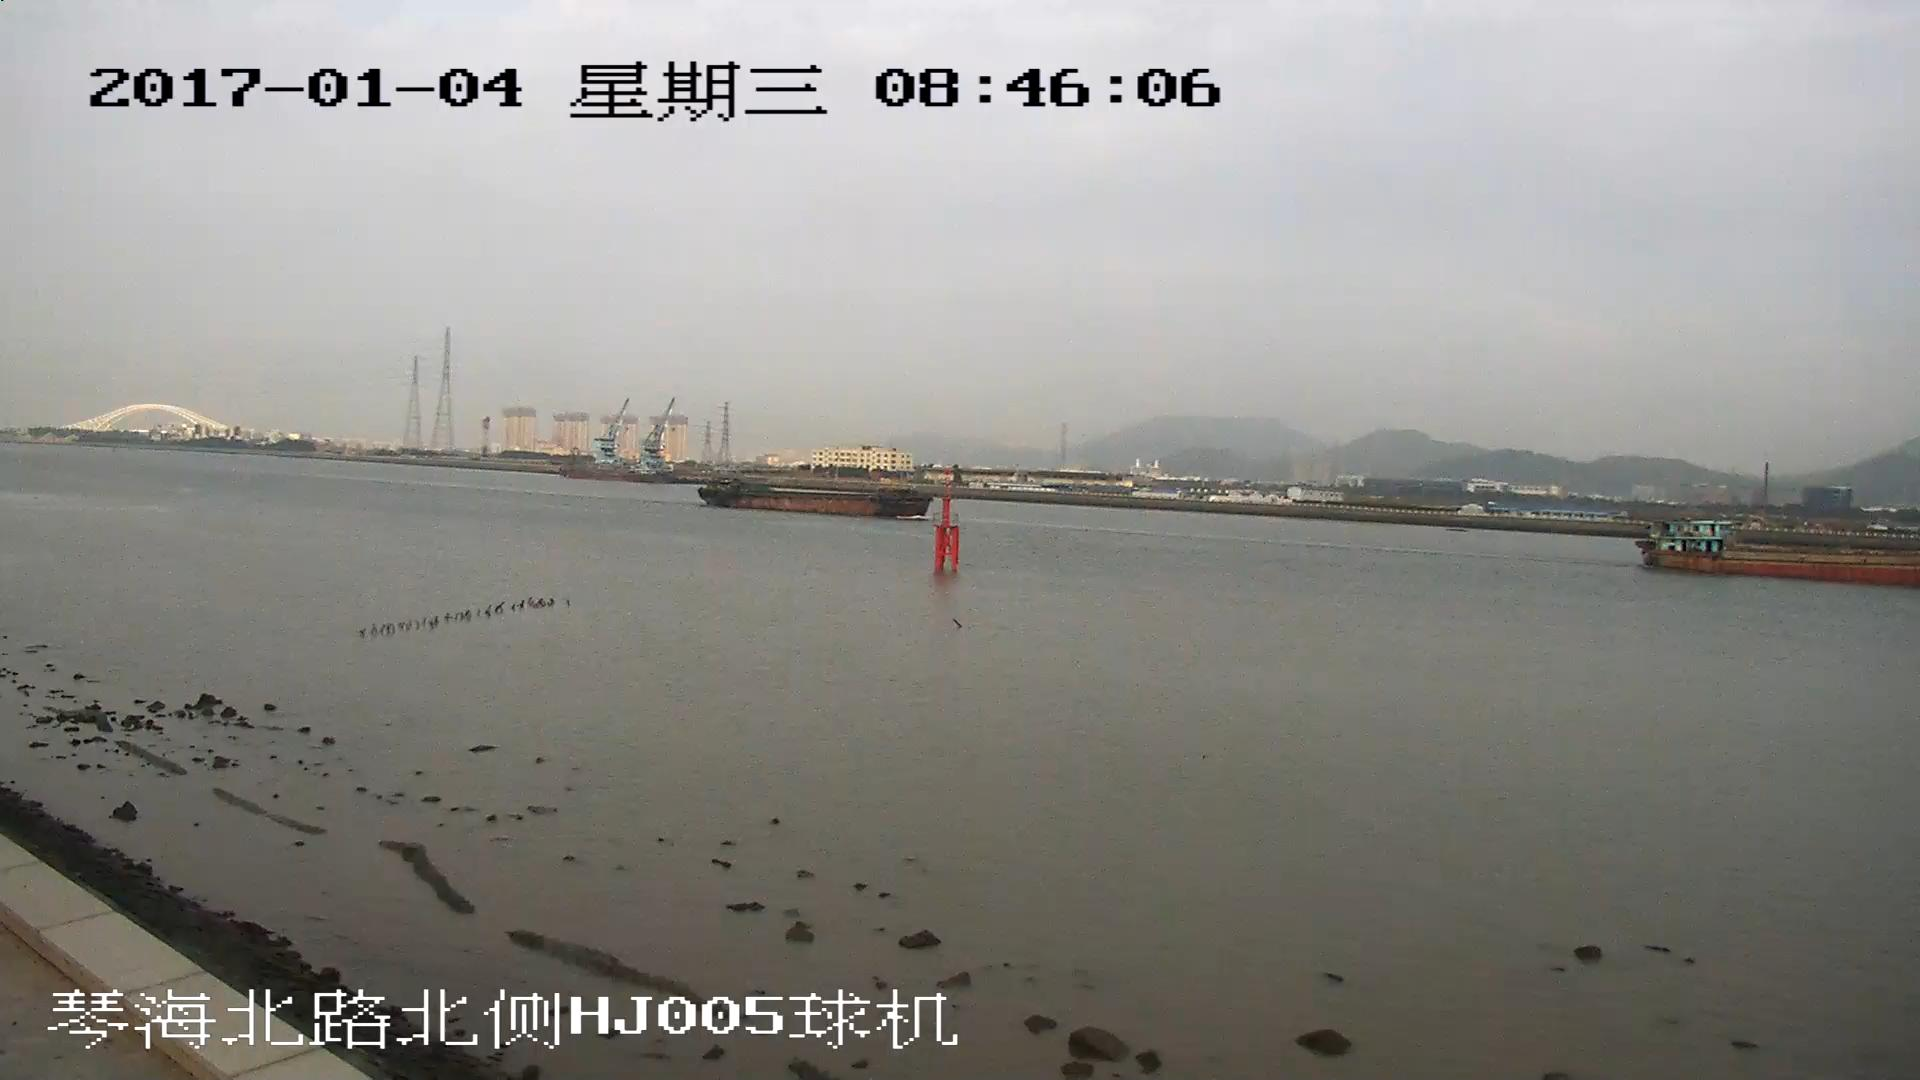bulk cargo carrier: (1637, 518, 1920, 586), (701, 470, 932, 520)
